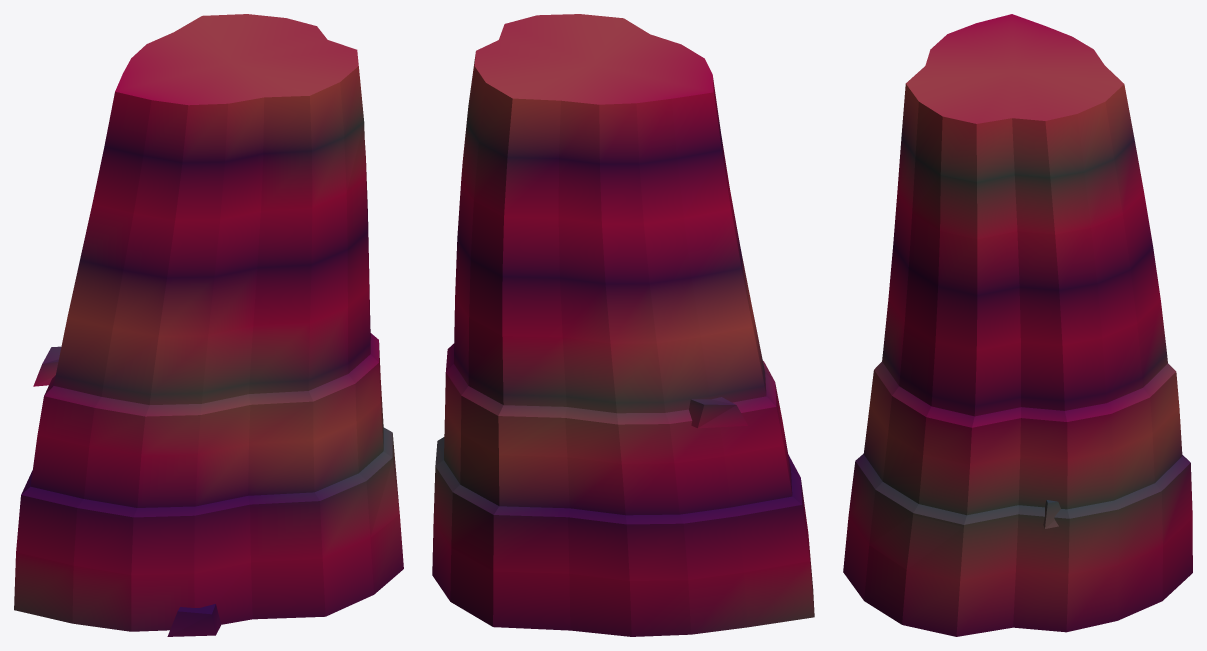
Rendered from SM_CinderCanyon_Rock_E_LOD1.fbx.
3 views of the same model, side by side, from view 1: azimuth 30°, elevation 25°; view 2: azimuth 150°, elevation 25°; view 3: azimuth 270°, elevation 25° (orthographic).
Parts seen in each view (by area): view 1: SM_CinderCanyon_Rock_E_LOD1; view 2: SM_CinderCanyon_Rock_E_LOD1; view 3: SM_CinderCanyon_Rock_E_LOD1.
Part boxes in pixels (left/top/right/bottom): SM_CinderCanyon_Rock_E_LOD1: left=14, top=14, right=403, bottom=636; SM_CinderCanyon_Rock_E_LOD1: left=432, top=14, right=814, bottom=636; SM_CinderCanyon_Rock_E_LOD1: left=843, top=14, right=1192, bottom=636.
Bounding box in the file's own units: 100 × 84 × 132.
